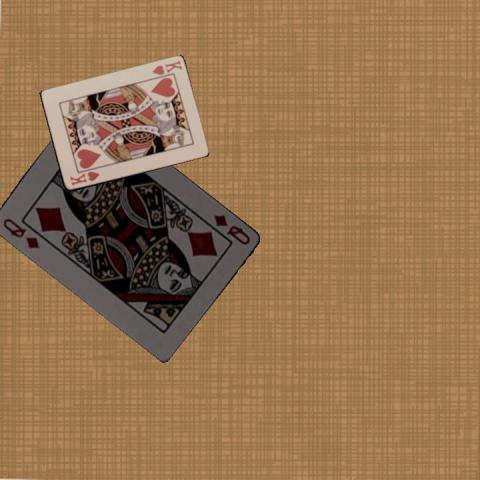Kh: (149, 57, 183, 77), (66, 169, 100, 188)
Qd: (210, 211, 252, 247), (0, 215, 42, 250)
